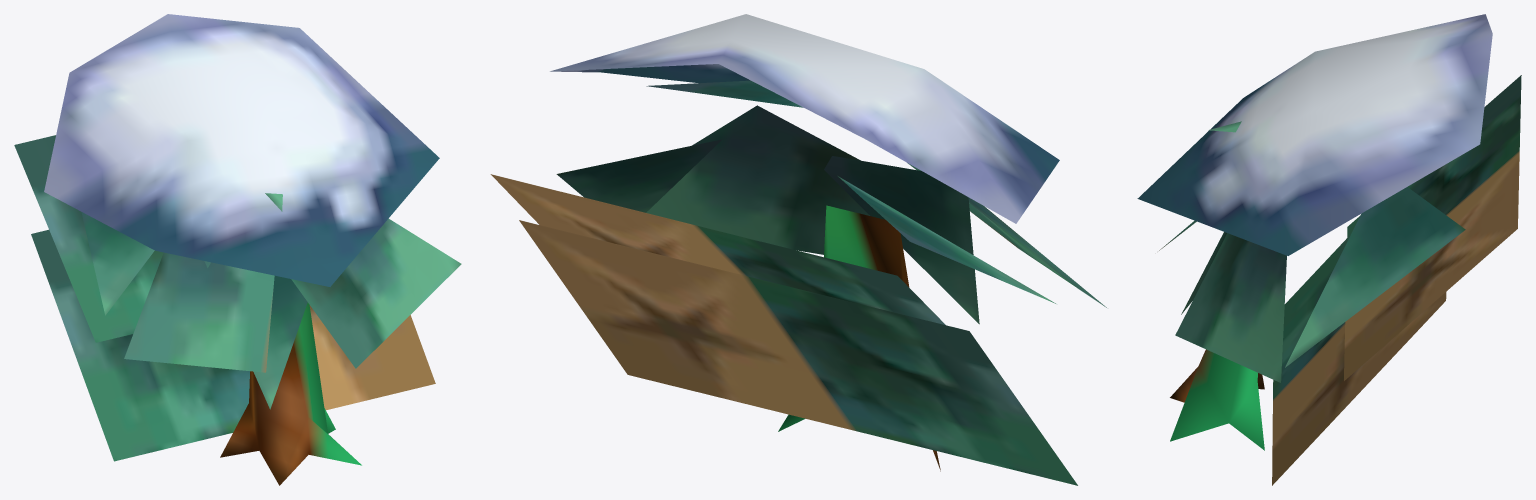
File: fg_bushC_1_s.dae
The picture shows the model from 3 angles, left to right: view 1: azimuth 30°, elevation 25°; view 2: azimuth 150°, elevation 25°; view 3: azimuth 270°, elevation 25°; orthographic projection. The views are drawn at different scales.
Visible parts, largest first — view 1: fg_bushC_1_s; view 2: fg_bushC_1_s; view 3: fg_bushC_1_s.
Part boxes in pixels (box(x1,y1,x2,y2)): fg_bushC_1_s: box(14, 14, 461, 485); fg_bushC_1_s: box(490, 14, 1106, 485); fg_bushC_1_s: box(1137, 14, 1521, 485).
Size of the model in its own units: 31.21 by 29 by 26.29.
1 material, 1 textured.
